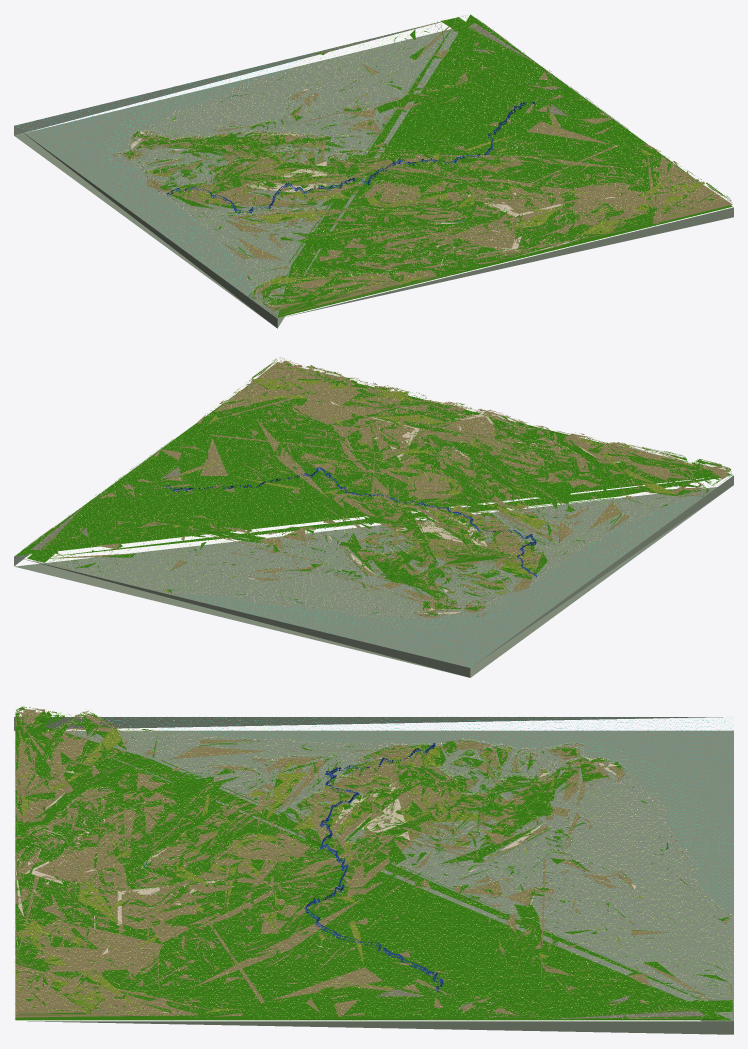
The model's file is model_web_preview.glb.
3 views of the same model, one above another, from view 1: azimuth 30°, elevation 25°; view 2: azimuth 150°, elevation 25°; view 3: azimuth 270°, elevation 25° (orthographic). The views are drawn at different scales.
Parts seen in each view (by area): view 1: preview_mesh_007, preview_mesh_000, preview_mesh_008, preview_mesh_006, preview_mesh_017, preview_mesh_016, preview_mesh_001, preview_mesh_009, preview_mesh_015, preview_mesh_002, preview_mesh_014; view 2: preview_mesh_007, preview_mesh_000, preview_mesh_008, preview_mesh_006, preview_mesh_017, preview_mesh_016, preview_mesh_001, preview_mesh_009, preview_mesh_002; view 3: preview_mesh_007, preview_mesh_000, preview_mesh_008, preview_mesh_017, preview_mesh_006, preview_mesh_016, preview_mesh_001, preview_mesh_015, preview_mesh_009, preview_mesh_002, preview_mesh_014, preview_mesh_013 (+1 smaller).
Boxes of the visible parts, <box> form: preview_mesh_007: <box>117,15,732,317</box>; preview_mesh_000: <box>14,16,733,328</box>; preview_mesh_008: <box>113,21,732,315</box>; preview_mesh_006: <box>142,19,719,313</box>; preview_mesh_017: <box>116,19,731,311</box>; preview_mesh_016: <box>76,14,726,309</box>; preview_mesh_001: <box>131,60,674,301</box>; preview_mesh_009: <box>166,101,535,213</box>; preview_mesh_015: <box>133,20,723,310</box>; preview_mesh_002: <box>155,23,709,270</box>; preview_mesh_014: <box>17,57,506,294</box>; preview_mesh_007: <box>15,358,732,615</box>; preview_mesh_000: <box>14,393,733,677</box>; preview_mesh_008: <box>28,357,731,617</box>; preview_mesh_006: <box>25,363,716,613</box>; preview_mesh_017: <box>23,358,728,617</box>; preview_mesh_016: <box>20,360,722,617</box>; preview_mesh_001: <box>104,374,708,614</box>; preview_mesh_009: <box>166,467,537,577</box>; preview_mesh_002: <box>30,367,696,609</box>; preview_mesh_007: <box>15,707,732,1020</box>; preview_mesh_000: <box>14,717,733,1034</box>; preview_mesh_008: <box>15,706,732,1018</box>; preview_mesh_017: <box>14,706,733,1020</box>; preview_mesh_006: <box>15,711,712,1018</box>; preview_mesh_016: <box>14,706,733,1020</box>; preview_mesh_001: <box>16,714,717,1012</box>; preview_mesh_015: <box>14,713,733,1020</box>; preview_mesh_009: <box>304,743,443,991</box>; preview_mesh_002: <box>25,737,717,1019</box>; preview_mesh_014: <box>51,716,733,988</box>; preview_mesh_013: <box>130,716,733,955</box>.
Bounding box in the file's own units: 150 × 6.97 × 150.
